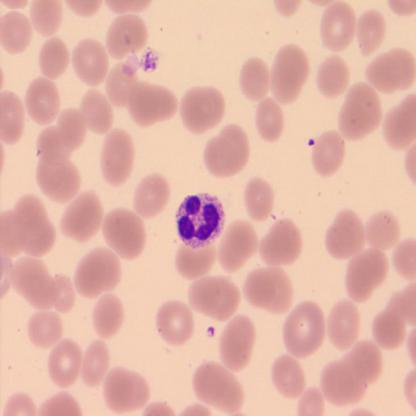Segmented neutrophil: (173, 191, 226, 250)
